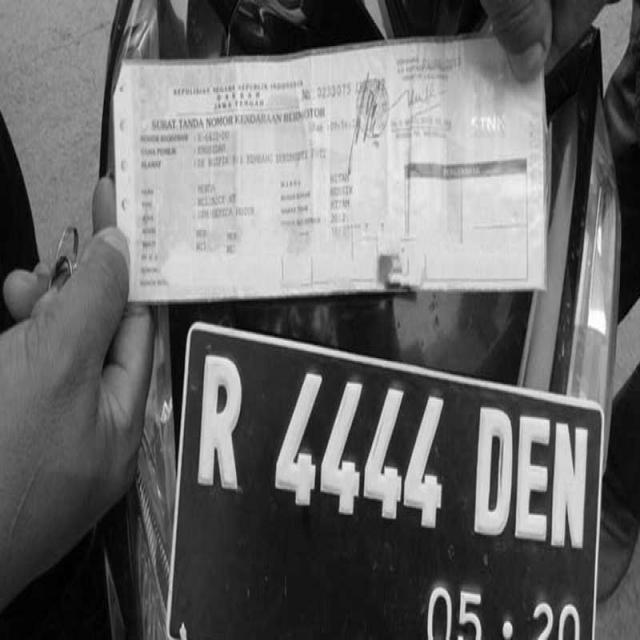4: (398, 390, 454, 536), (270, 358, 318, 528), (316, 370, 366, 520), (366, 370, 398, 536)
D: (473, 400, 513, 550)
E: (511, 414, 556, 540)
N: (550, 415, 588, 558)
R: (190, 348, 248, 518)
